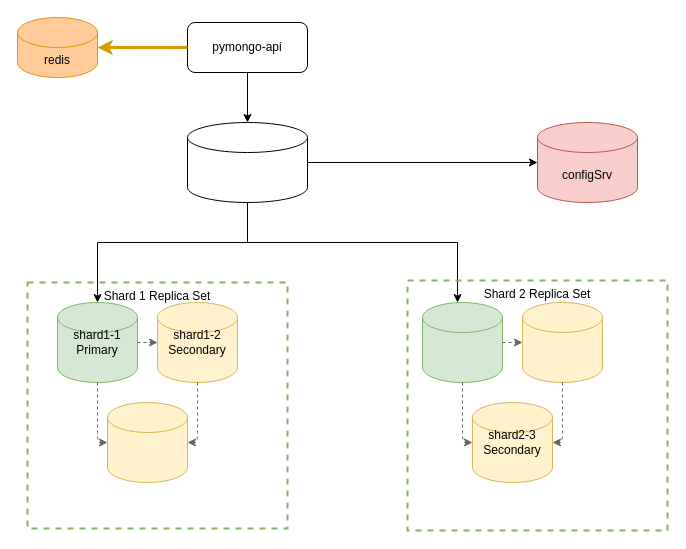
This 686x549 diagram has some shape labels left out. The centre of each missing label's shape, as x and y in pixels:
"MongoDB" belongs at point (247, 162).
"shard1-3 Secondary" belongs at point (147, 442).
"shard2-1 Primary" belongs at point (462, 342).
"shard2-2 Secondary" belongs at point (562, 342).
